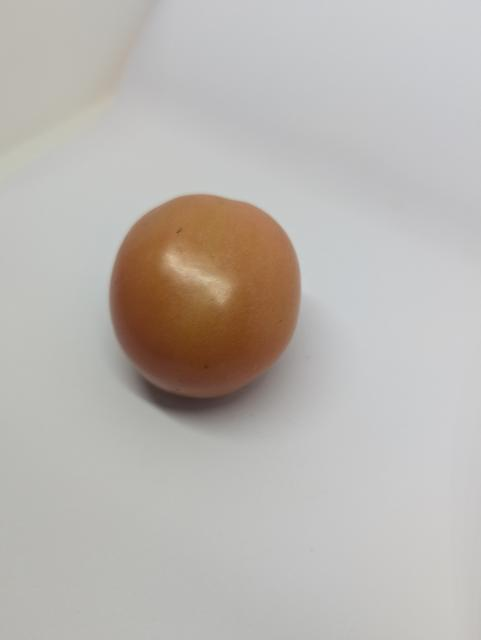turning: (102, 186, 308, 404)
